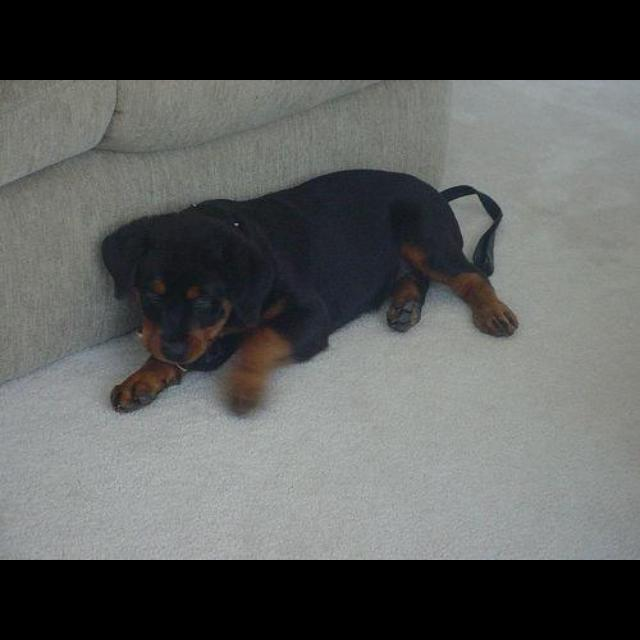rottweiler: (100, 167, 521, 417)
